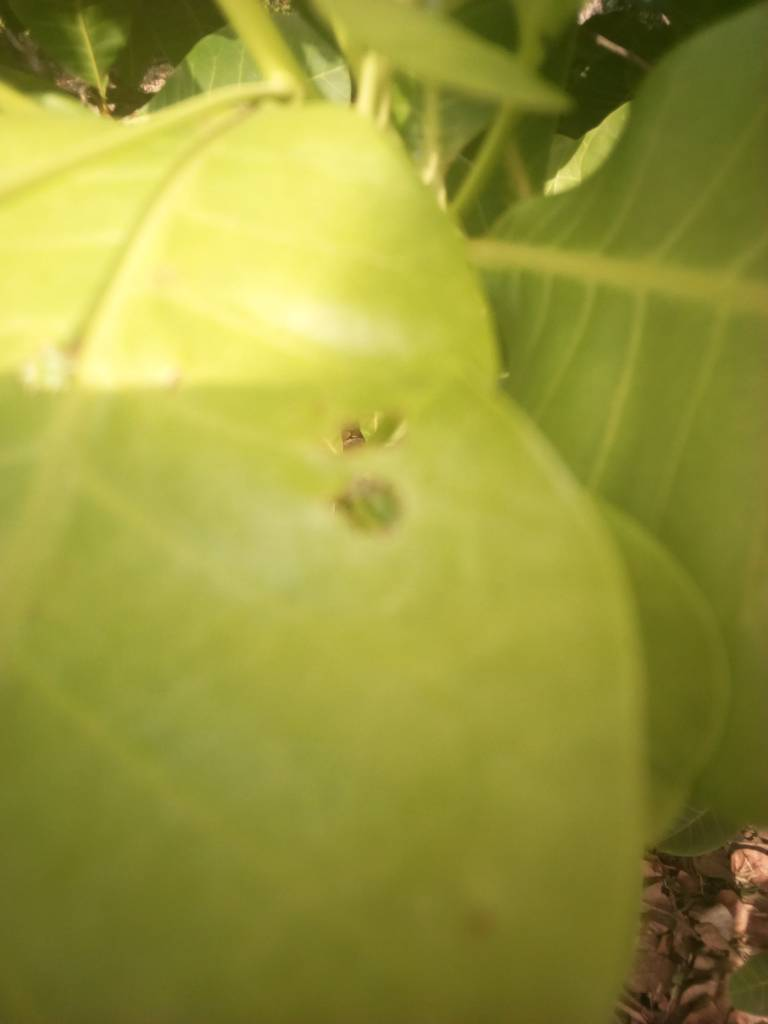Anoplonemis curvipes: (290, 291, 477, 616)
